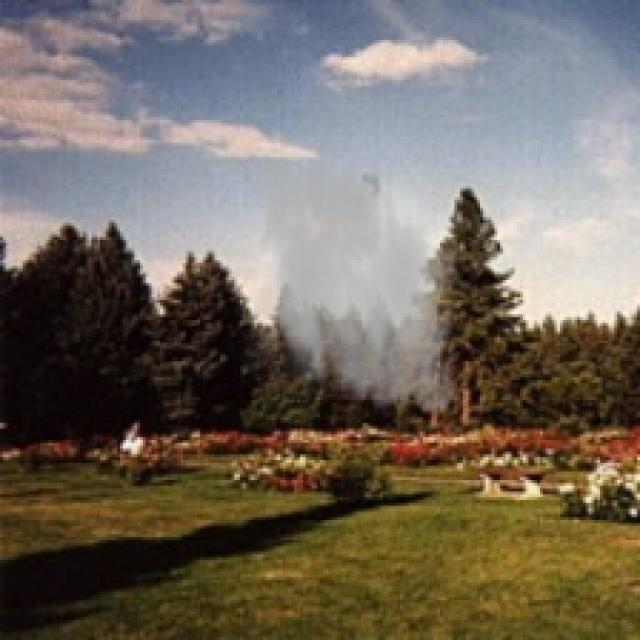smoke: (232, 143, 472, 426)
